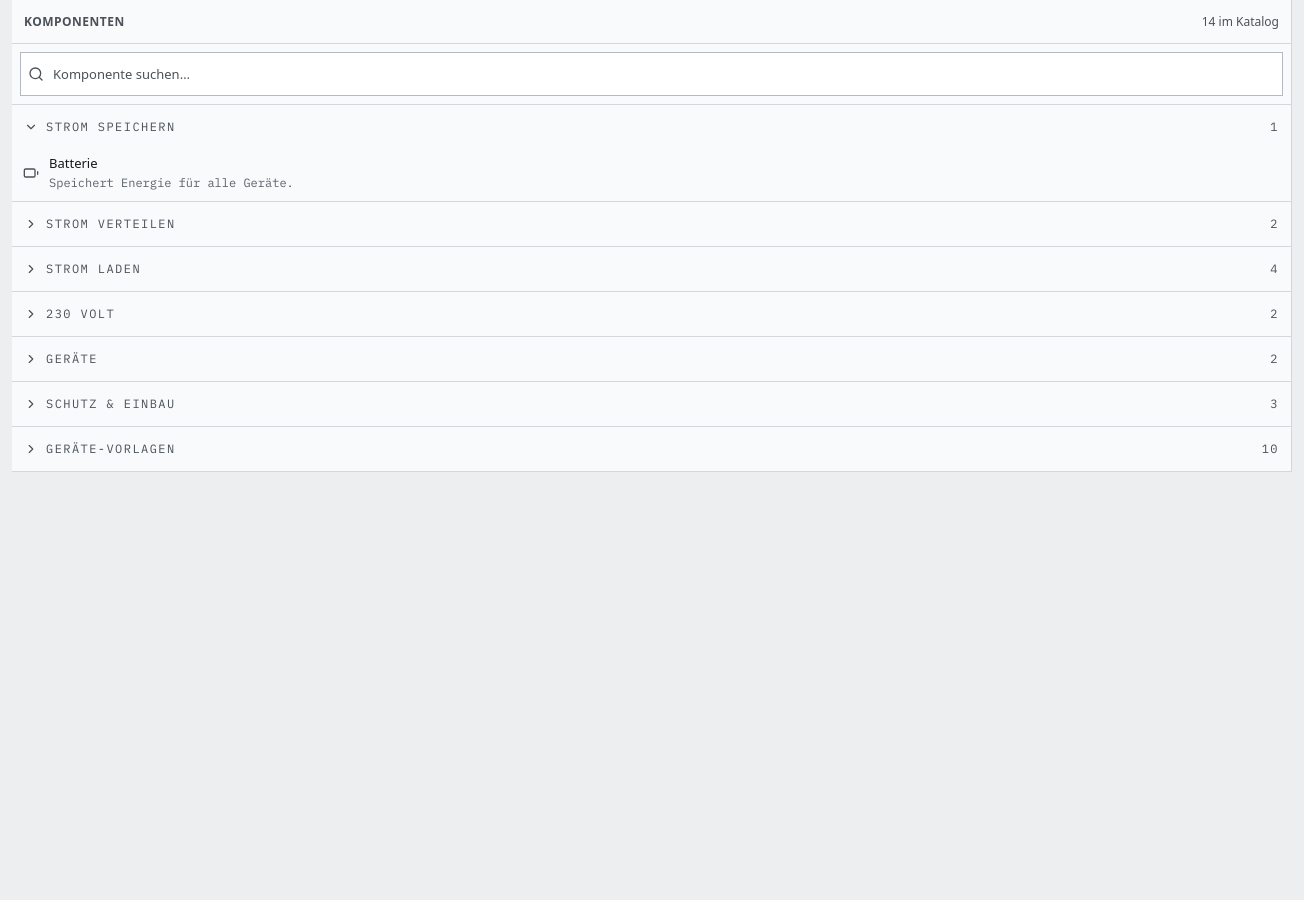
Test case: Sidebar Component › Rendering › renders electric components by default
Expected: the text "Batterie" is shown, [49,154,98,172]
Click the button "Strom verteilen 2" at (111, 223), box [12,202,1291,246]
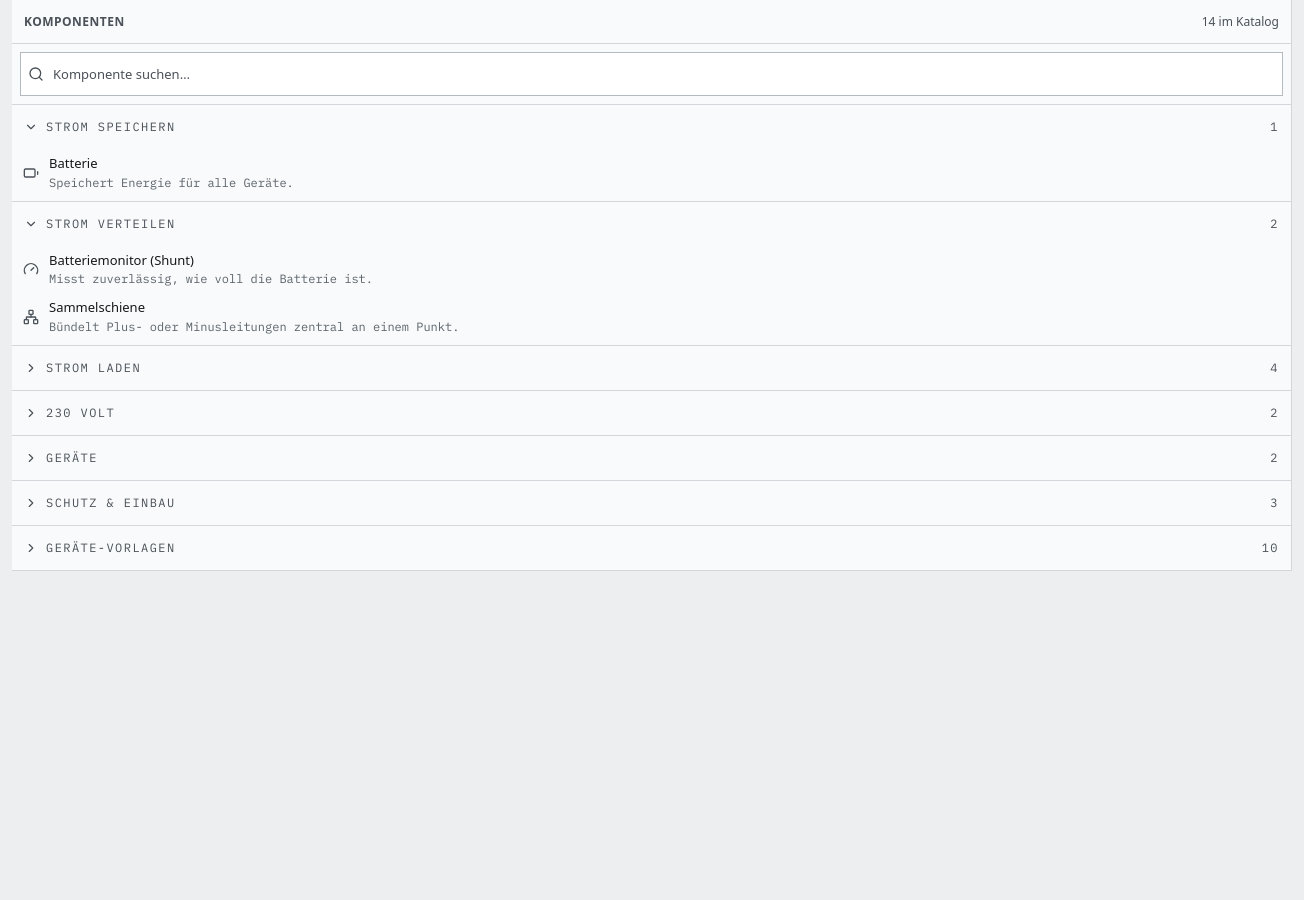
Expected: the text "Batteriemonitor (Shunt)" is shown, [49,250,194,268]
Click the button "Strom laden 4" at (94, 367), box [12,346,1291,390]
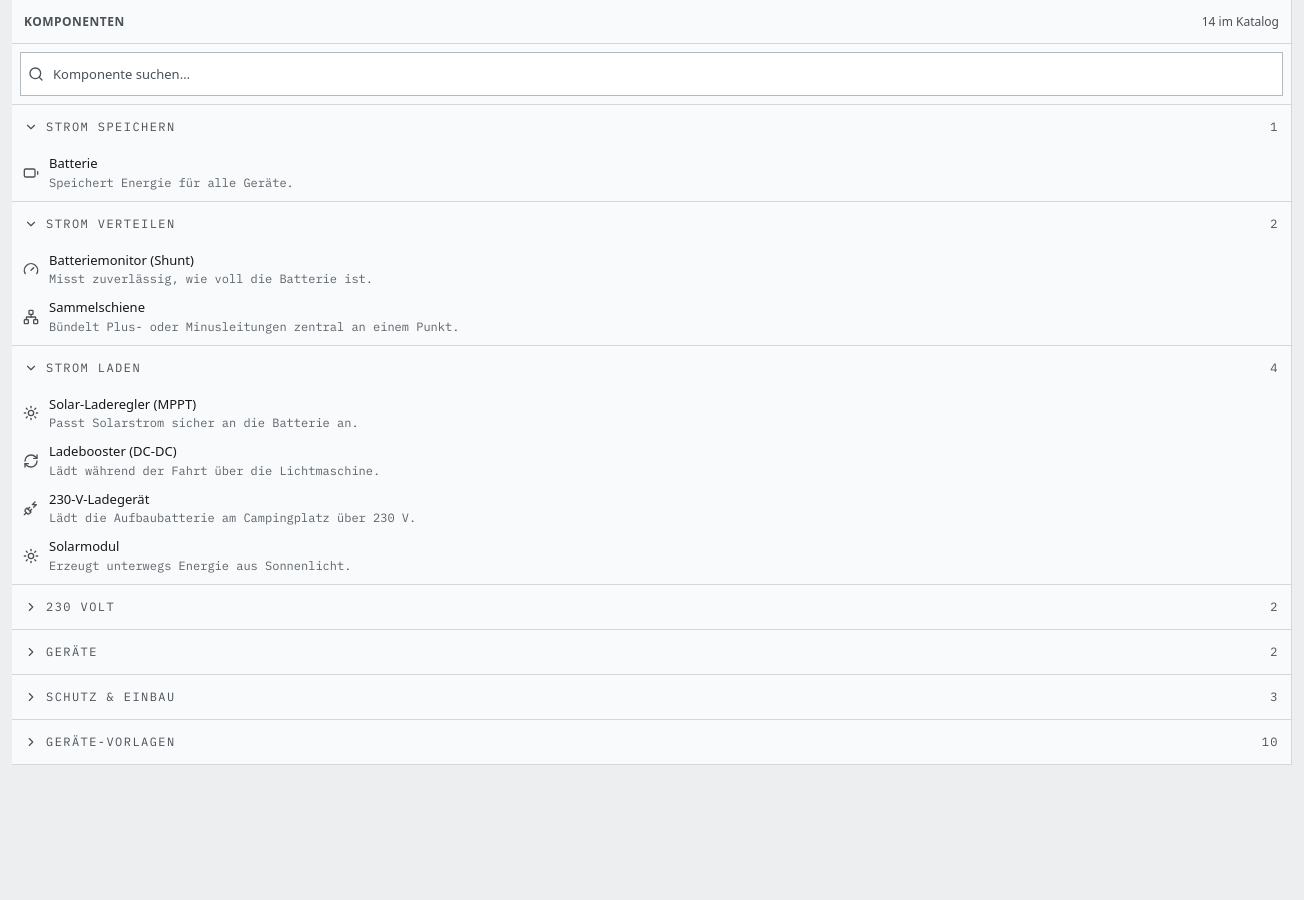
Expected: the text "Solarmodul" is shown, [49,537,119,555]
